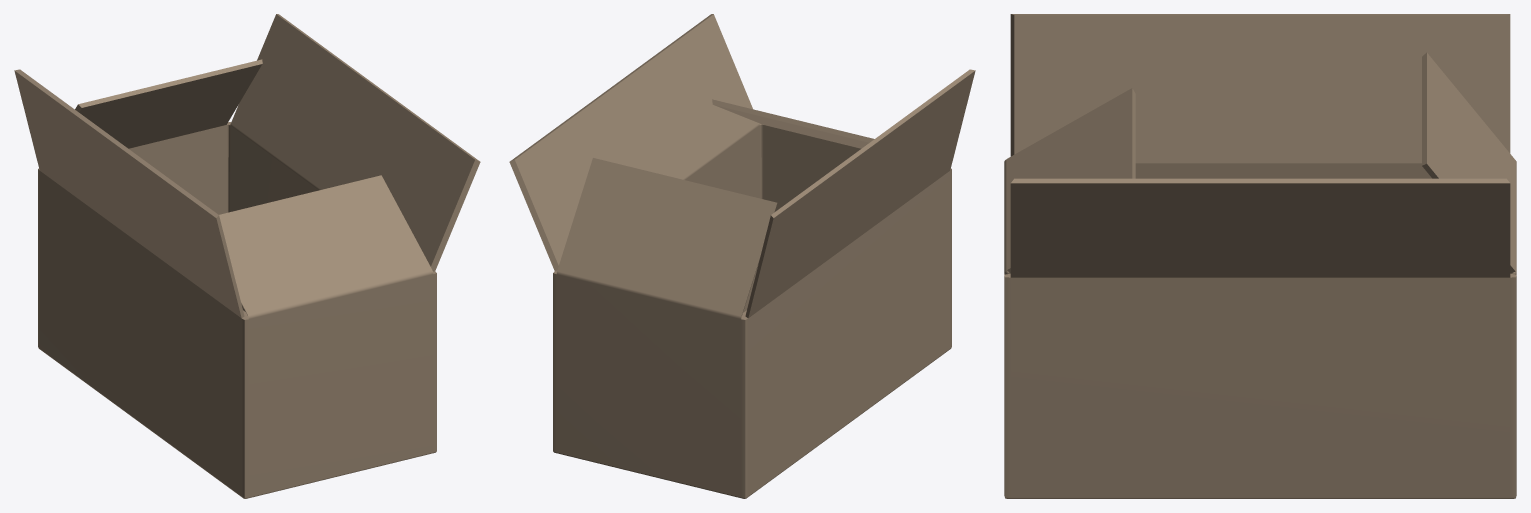
3 views of the same model, side by side, from view 1: azimuth 30°, elevation 25°; view 2: azimuth 150°, elevation 25°; view 3: azimuth 270°, elevation 25° (orthographic). The views are drawn at different scales.
Parts seen in each view (by area): view 1: Box04; view 2: Box04; view 3: Box04.
Part boxes in pixels (<box>): Box04: <box>14,14,480,498</box>; Box04: <box>509,14,975,498</box>; Box04: <box>1004,14,1516,498</box>.
Bounding box in the file's own units: 0.4387 × 0.456 × 0.5961.
